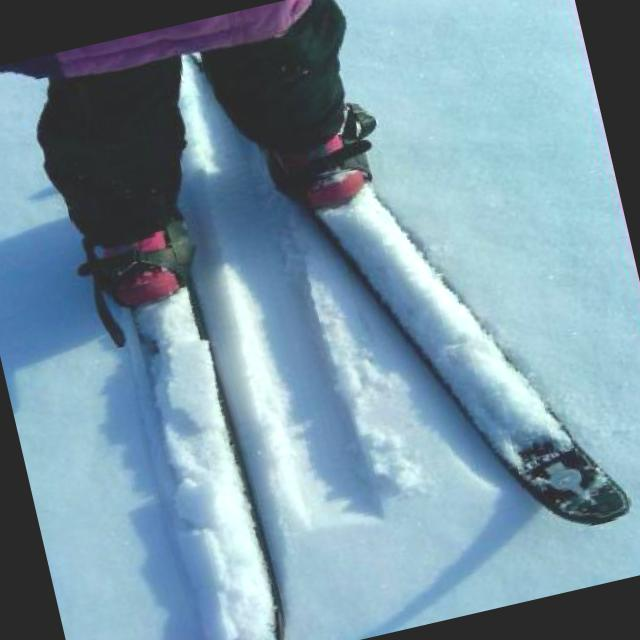Person: (0, 0, 402, 340)
